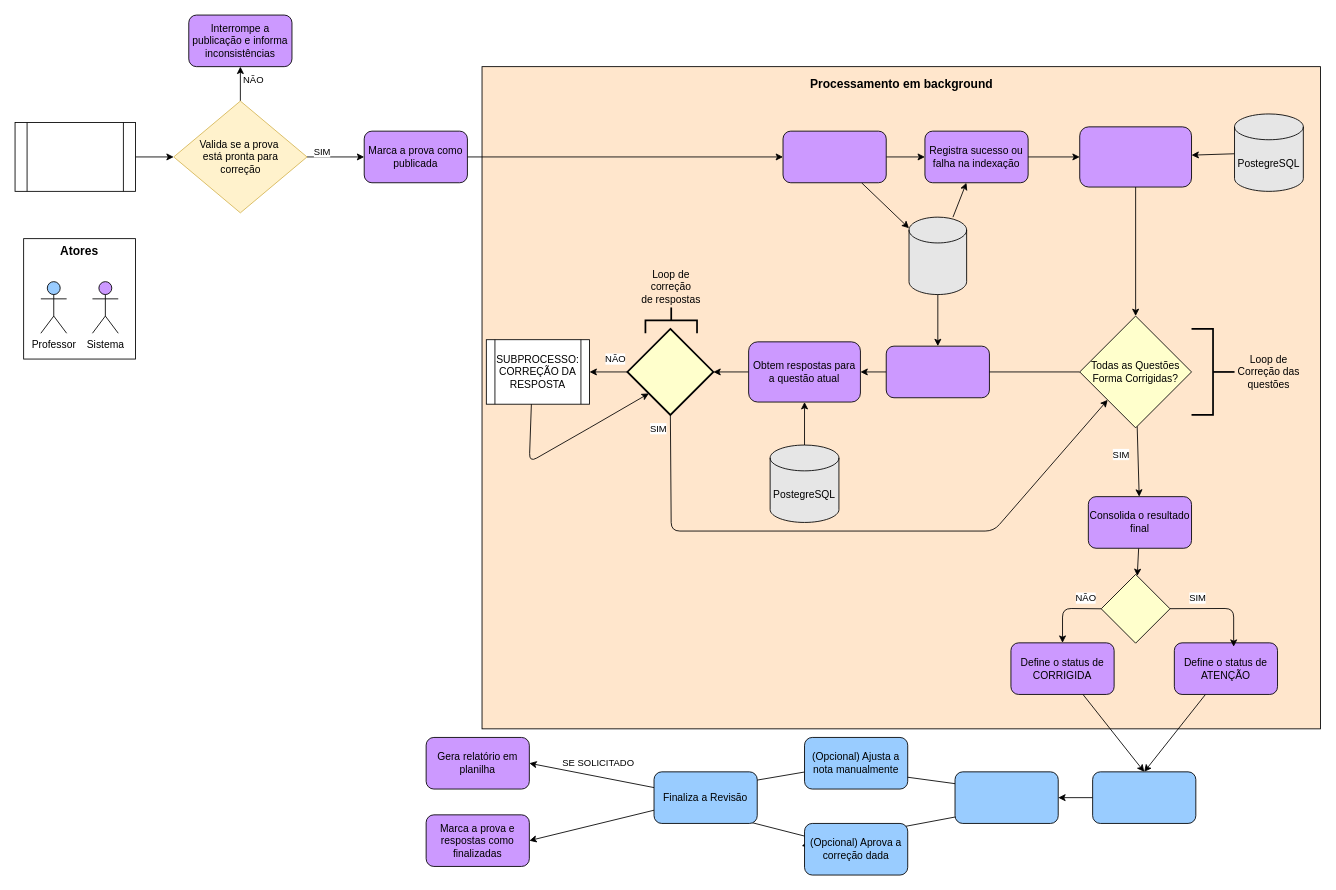
Image size: 1336x890. Some labels were removed from this diagram. The centre of each missing label's shape, as x and y in pixels:
ChromaDB: the point at 937,255
Consulta o resultado por aluno e questão: the point at 1006,797
Há falhas?: the point at 1135,608
Indexa Materiais Didáticos no Banco de Dados Vetorial: the point at 834,156
Inicia a revisão: the point at 1144,797
Obtem as Questões: the point at 1135,156
Recupera Contexto dos materias - RAG: the point at 937,371
SUBPROCESSO: CONFIGURAÇÃO DA PROVA: the point at 74,156
Todas as respostas corrigidas?: the point at 670,371
